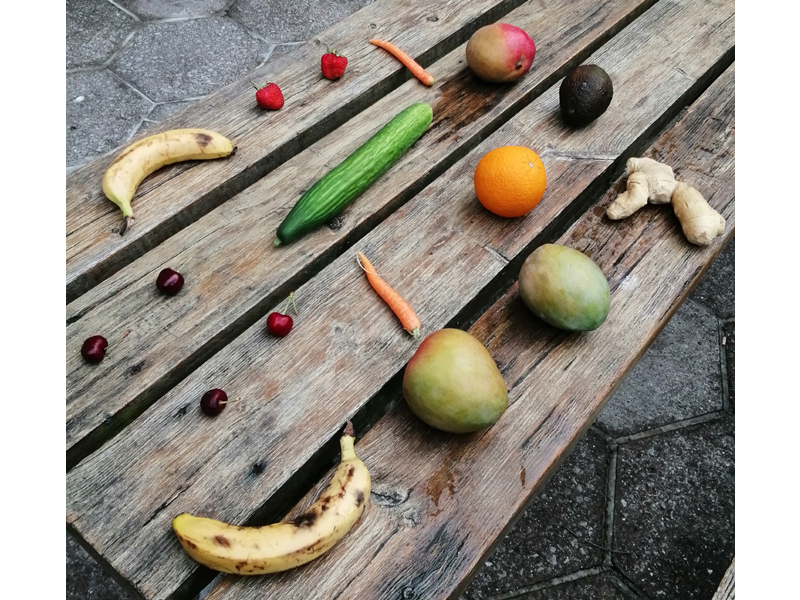avocado: (551, 60, 619, 133)
banana: (149, 424, 384, 585), (90, 123, 247, 230)
carrot: (344, 236, 428, 340), (366, 27, 443, 93)
cherry: (237, 296, 321, 336), (143, 263, 187, 300), (77, 330, 115, 372), (195, 382, 230, 417)
ginger: (595, 151, 729, 244)
mango: (405, 325, 515, 437), (507, 239, 618, 342), (458, 19, 537, 86)
orange: (459, 140, 547, 221)
strawberry: (300, 37, 353, 87), (244, 72, 294, 116)
